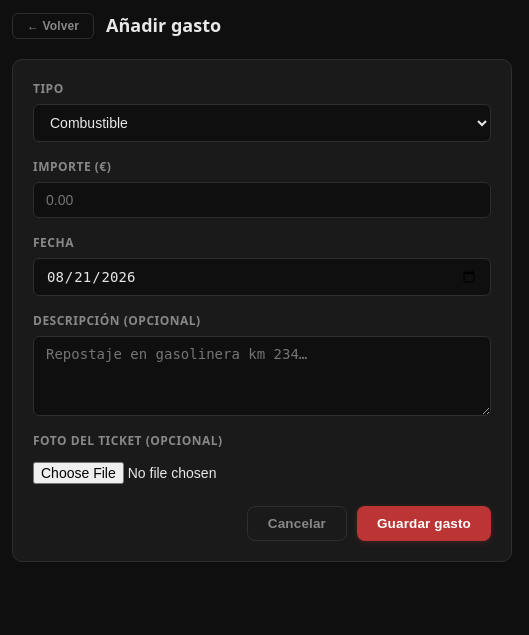
muestra error de validación si la API rechaza la petición
# Rellenar importe para que el formulario pase la validación nativa de jsdom
Type "10" into the number field labelled "Importe (€)" at (262, 200), box [33,182,491,218]
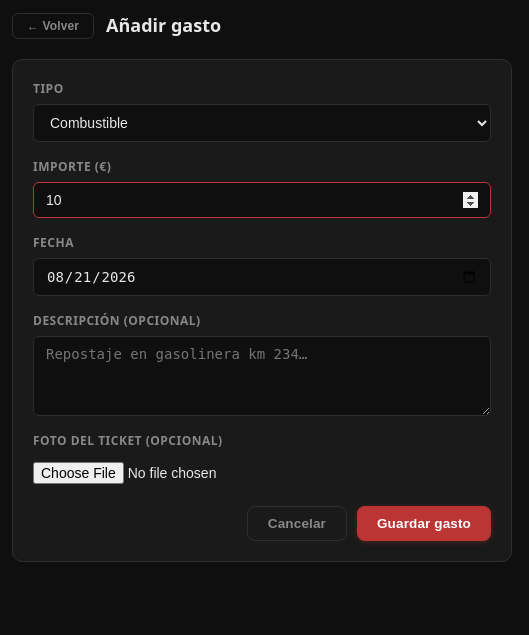
Click the button "Guardar gasto" at (424, 524), box [357,506,491,541]
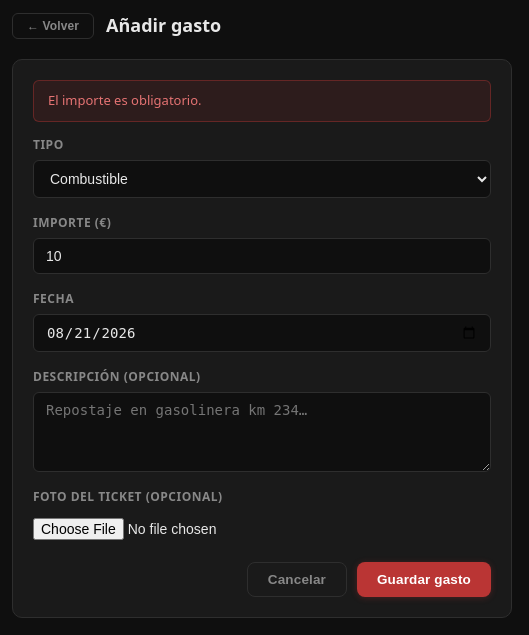
Now the text "El importe es obligatorio." is shown, box [33,80,491,122]
